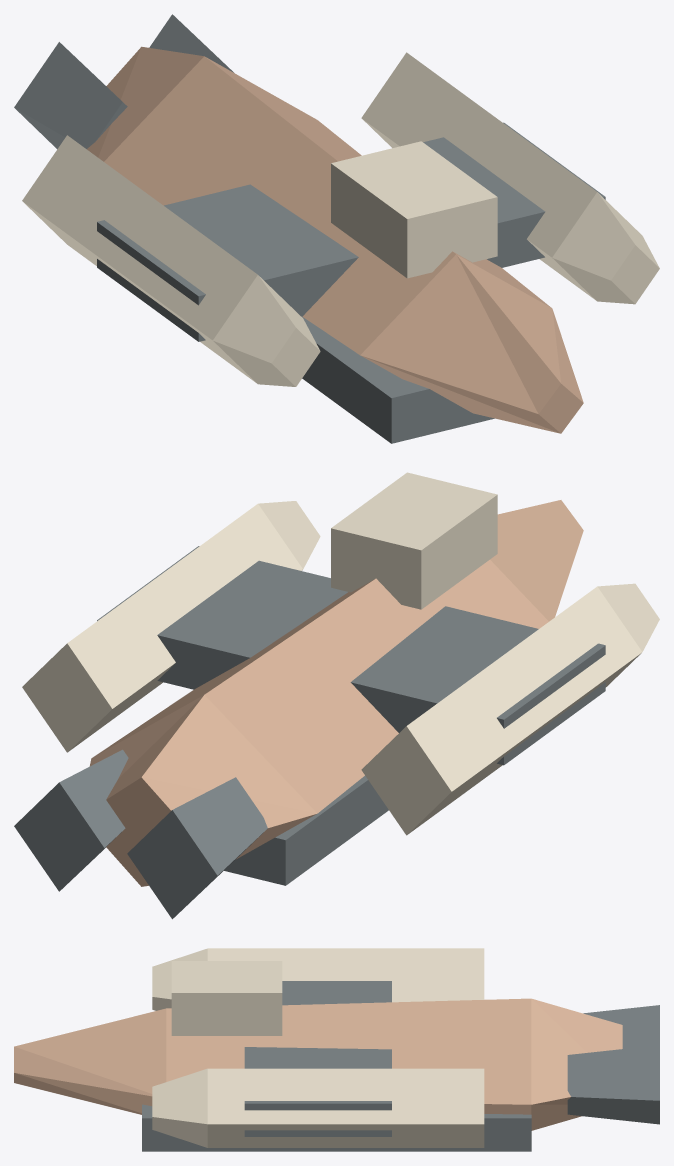
3 views of the same model, one above another, from view 1: azimuth 30°, elevation 25°; view 2: azimuth 150°, elevation 25°; view 3: azimuth 270°, elevation 25° (orthographic). The views are drawn at different scales.
Size of the model in its own units: 4.06 by 1.92 by 7.28.
